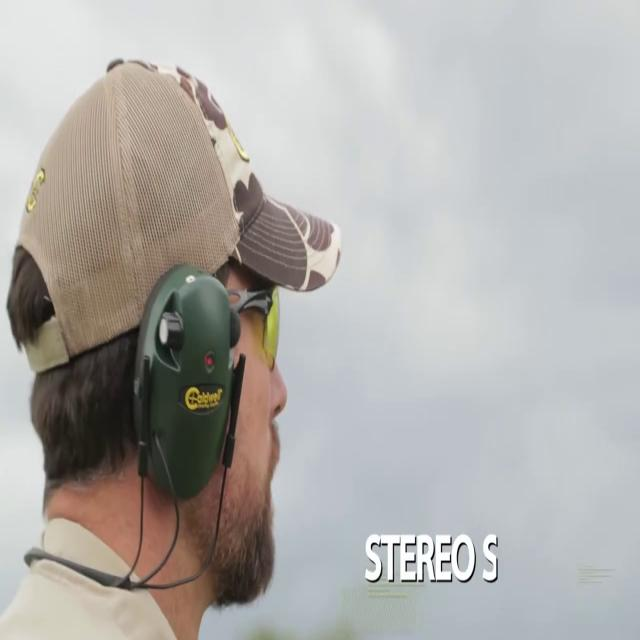earmuff: (128, 260, 248, 506)
glasses: (222, 276, 282, 374)
